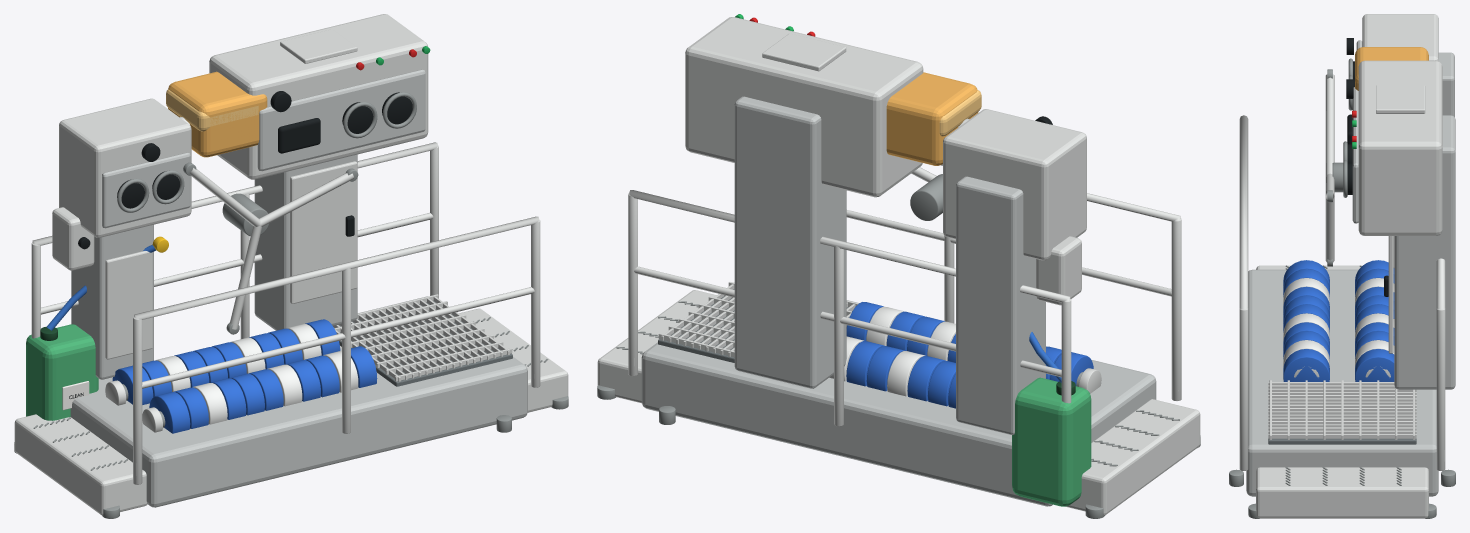
The model's file is elpress-dzw-hdt-1000-hygiene-station.glb.
3 views of the same model, side by side, from view 1: azimuth 30°, elevation 25°; view 2: azimuth 150°, elevation 25°; view 3: azimuth 270°, elevation 25° (orthographic). The views are drawn at different scales.
Parts seen in each view (by area): view 1: base.main_trough, main.head, entry.head, base.entry_step, main.face, main.service_door, main.column, chemical.can, entry.column, main.orange_module, entry.lower_door, entry.face (+31 smaller); view 2: base.main_trough, main.column, main.head, entry.column, entry.head, chemical.can, base.entry_step, main.orange_module, base.exit_step, rail.top.right, entry.side_dispenser, rail.mid.right (+20 smaller); view 3: base.main_trough, main.head, main.column, base.exit_step, entry.head, rail.top.left, rail.post.left.3, rail.post.right.3, bounds.top_cap, brush.roller.1.10, brush.roller.2.10, main.orange_module (+46 smaller).
Part boxes in pixels (bbox=[...]): base.main_trough: bbox=[70, 296, 527, 507]; main.head: bbox=[209, 14, 428, 179]; entry.head: bbox=[59, 98, 191, 237]; base.entry_step: bbox=[14, 414, 147, 515]; main.face: bbox=[257, 69, 425, 171]; main.service_door: bbox=[290, 161, 357, 303]; main.column: bbox=[254, 154, 357, 330]; chemical.can: bbox=[26, 324, 98, 420]; entry.column: bbox=[71, 224, 153, 379]; main.orange_module: bbox=[168, 71, 267, 157]; entry.lower_door: bbox=[105, 251, 152, 359]; entry.face: bbox=[102, 152, 190, 228]; base.main_trough: bbox=[641, 300, 1156, 506]; main.column: bbox=[734, 96, 846, 388]; main.head: bbox=[685, 17, 923, 197]; entry.column: bbox=[956, 176, 1045, 434]; entry.head: bbox=[943, 109, 1086, 260]; chemical.can: bbox=[1012, 377, 1091, 506]; base.entry_step: bbox=[1066, 399, 1200, 515]; main.orange_module: bbox=[886, 72, 978, 165]; base.exit_step: bbox=[597, 290, 716, 403]; rail.top.right: bbox=[629, 190, 1070, 365]; entry.side_dispenser: bbox=[1036, 236, 1081, 305]; rail.mid.right: bbox=[634, 266, 1061, 377]; base.main_trough: bbox=[1246, 269, 1438, 496]; main.head: bbox=[1358, 60, 1442, 235]; main.column: bbox=[1394, 115, 1455, 389]; base.exit_step: bbox=[1256, 467, 1428, 518]; entry.head: bbox=[1362, 14, 1438, 61]; rail.top.left: bbox=[1239, 115, 1248, 461]; rail.post.left.3: bbox=[1239, 309, 1248, 470]; rail.post.right.3: bbox=[1436, 309, 1445, 470]; bounds.top_cap: bbox=[1376, 85, 1425, 113]; brush.roller.1.10: bbox=[1283, 349, 1329, 381]; brush.roller.2.10: bbox=[1355, 349, 1394, 381]; main.orange_module: bbox=[1355, 47, 1428, 90].
Bounding box in the file's own units: 2.12 × 1.51 × 0.918.
